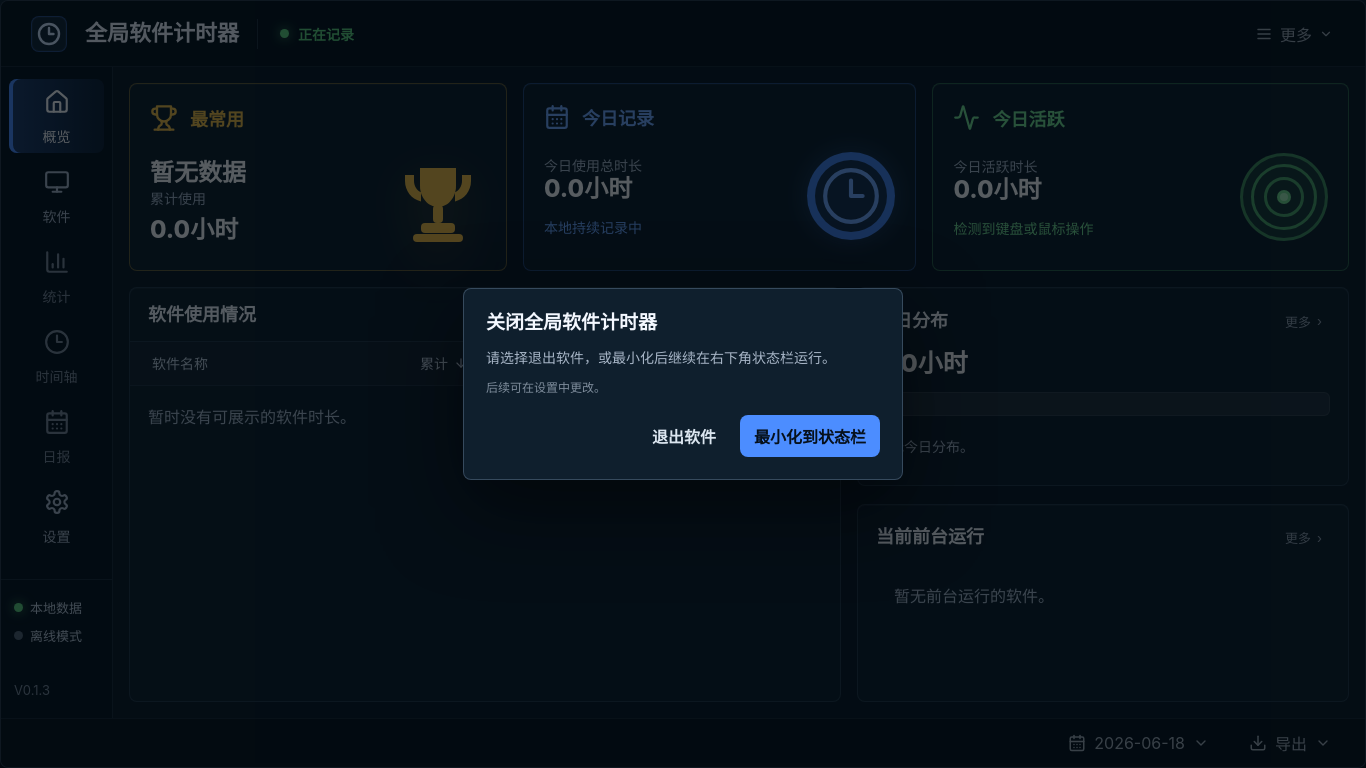
it: App › keeps the first-close dialog open when saving the choice fails
Expected: the heading "全局软件计时器" is shown, [85,20,239,47]
Click the button "最小化到状态栏": coordinates (810, 436) [740,416,880,458]
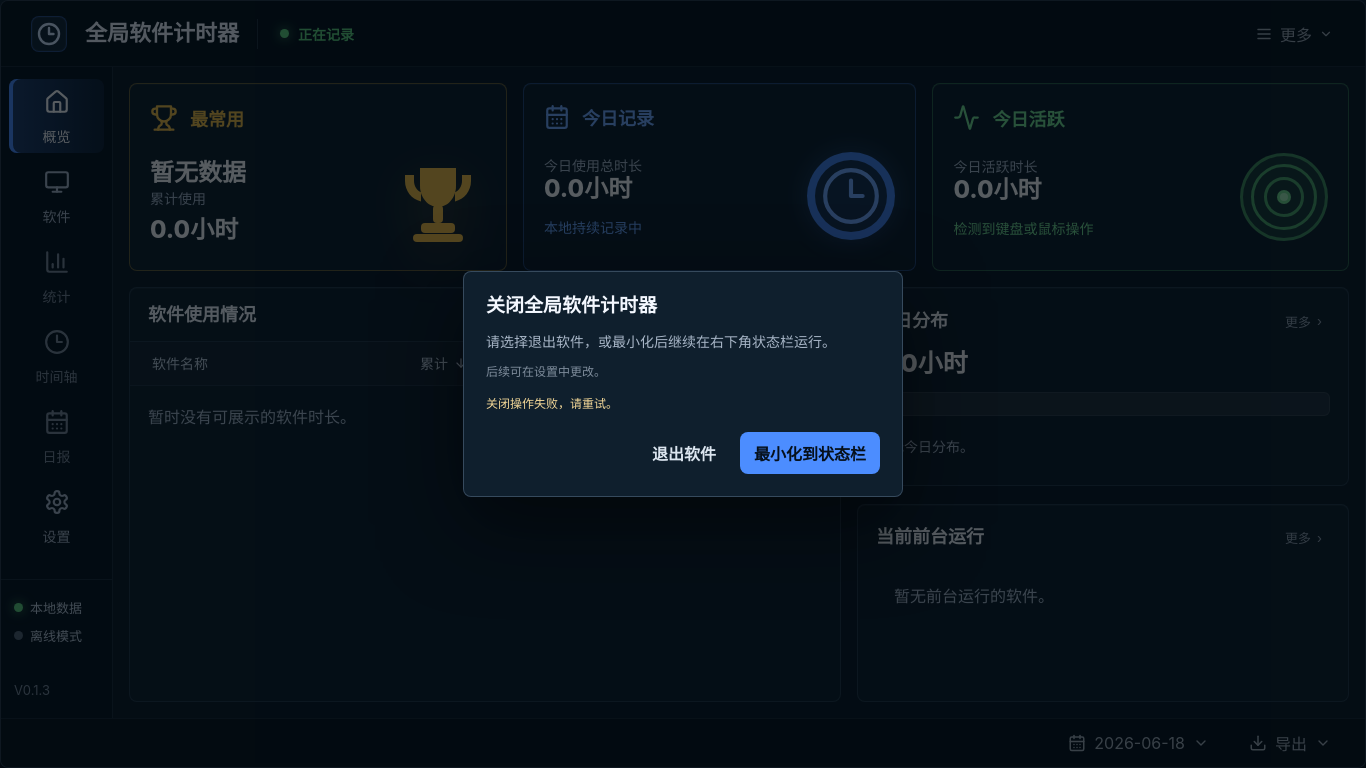
Expected: the dialog "关闭全局软件计时器" is shown, [463,271,903,497]
Now the text "关闭操作失败，请重试。" is shown, box [486,396,618,411]
